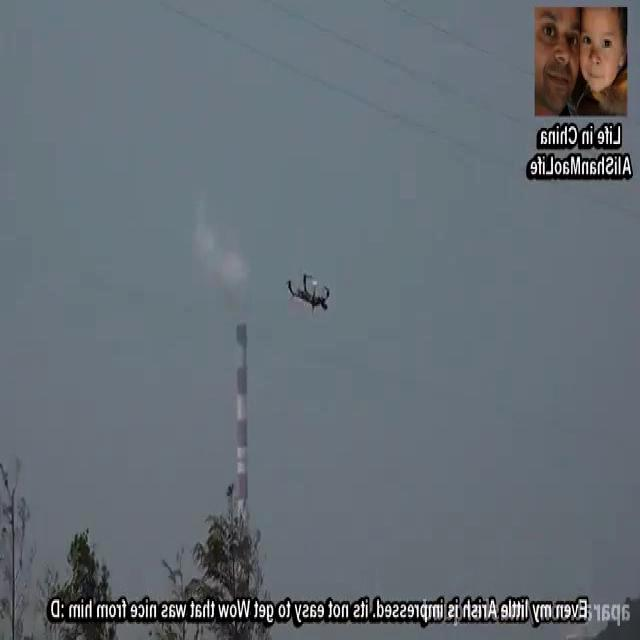drone: (283, 265, 333, 315)
